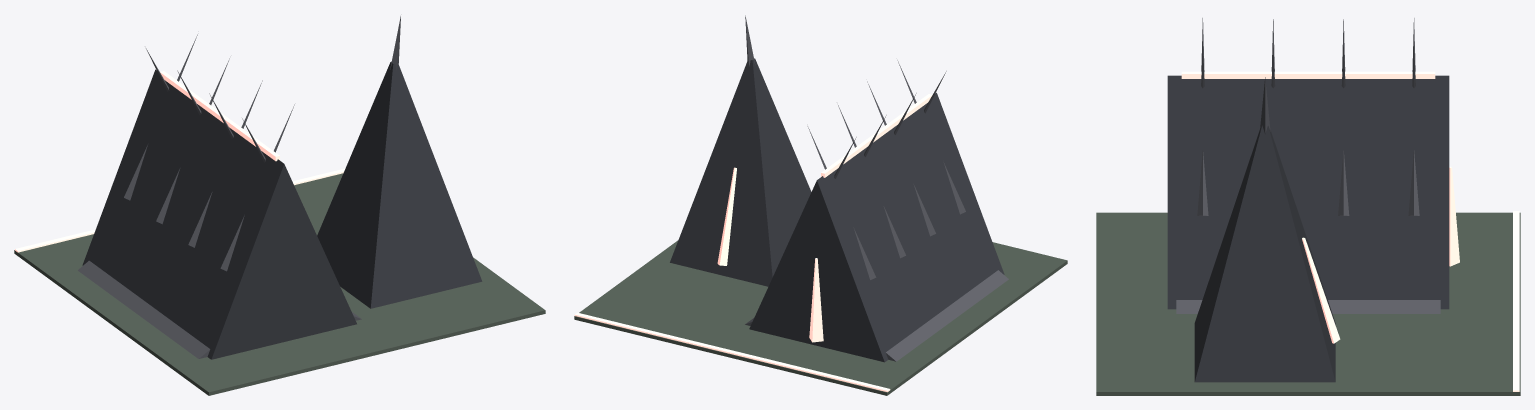
File: zone_low_6.glb
3 views of the same model, side by side, from view 1: azimuth 30°, elevation 25°; view 2: azimuth 150°, elevation 25°; view 3: azimuth 270°, elevation 25° (orthographic). The views are drawn at different scales.
Visible parts, largest first — view 1: zone_low_6, detail; view 2: zone_low_6, detail; view 3: zone_low_6, detail.
Part boxes in pixels (x1,y1,x2,y2): zone_low_6: (14, 16, 545, 395); detail: (15, 168, 345, 252); zone_low_6: (574, 15, 1067, 395); detail: (574, 312, 890, 392); zone_low_6: (1096, 18, 1520, 395); detail: (1513, 211, 1519, 391).
Size of the model in its own units: 19.6 by 14.44 by 19.6.
